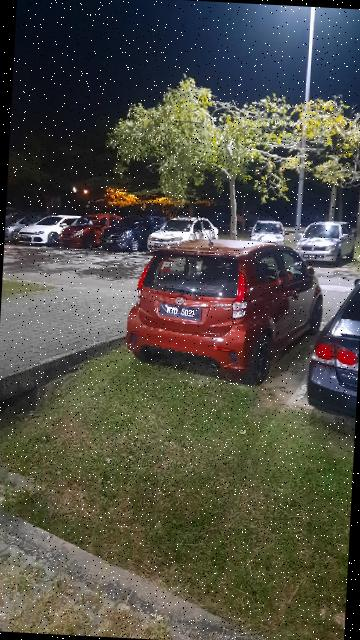License_Plate: (158, 301, 206, 327)
car: (118, 230, 332, 393)
